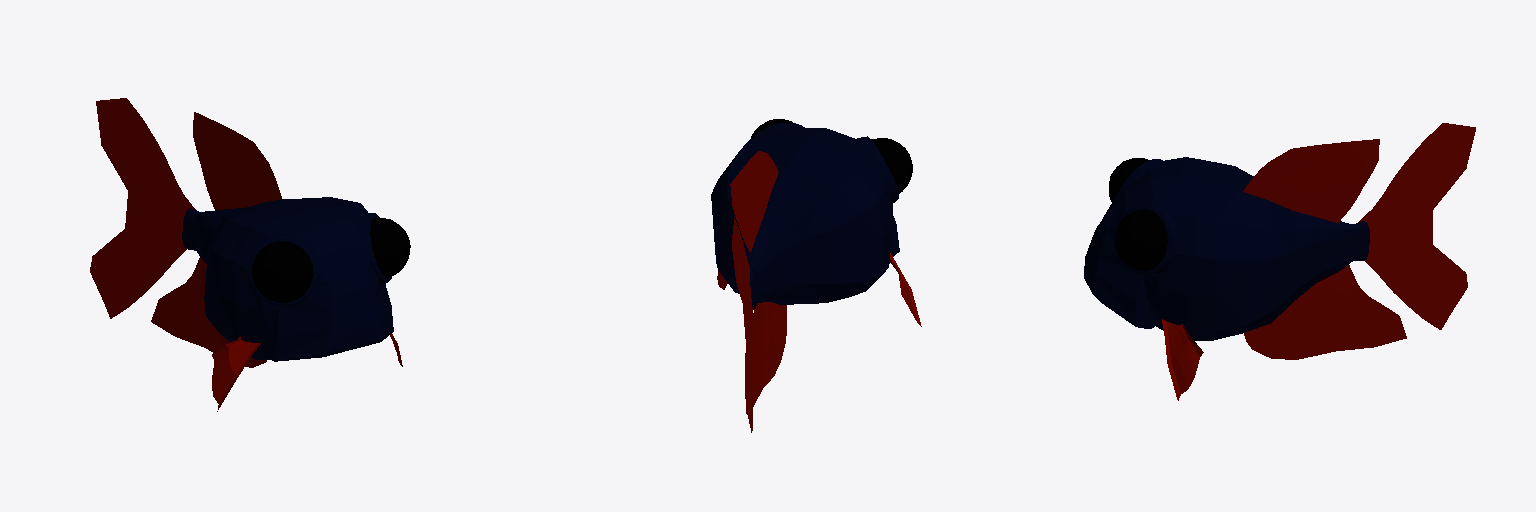
Rendered from Betta.obj.
3 renders of one model, left to right at view 1: azimuth 30°, elevation 25°; view 2: azimuth 150°, elevation 25°; view 3: azimuth 270°, elevation 25°, orthographic.
Parts seen in each view (by area): view 1: Betta_Cube.047; view 2: Betta_Cube.047; view 3: Betta_Cube.047.
Boxes of the visible parts, x1=… form: Betta_Cube.047: x1=90, y1=98, x2=410, y2=411; Betta_Cube.047: x1=711, y1=119, x2=921, y2=432; Betta_Cube.047: x1=1084, y1=123, x2=1475, y2=400.
Size of the model in its own units: 3.06 by 3.37 by 5.4.